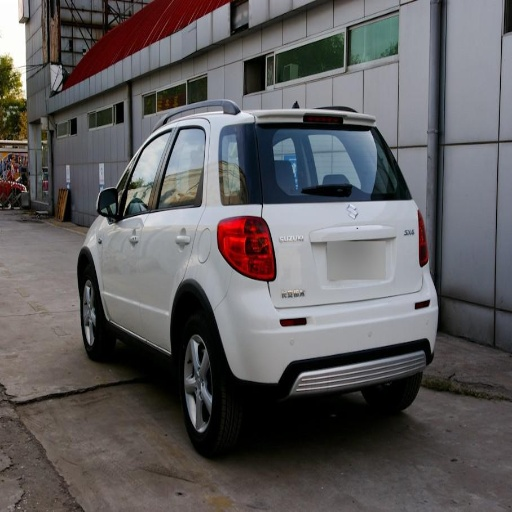back_bumper: (211, 267, 435, 398)
back_glass: (222, 124, 407, 199)
back_left_door: (142, 129, 205, 343)
tailgate: (278, 210, 414, 303)
trunk: (260, 202, 420, 320)
